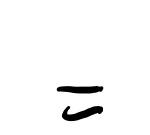eqv: (57, 86, 103, 121)
